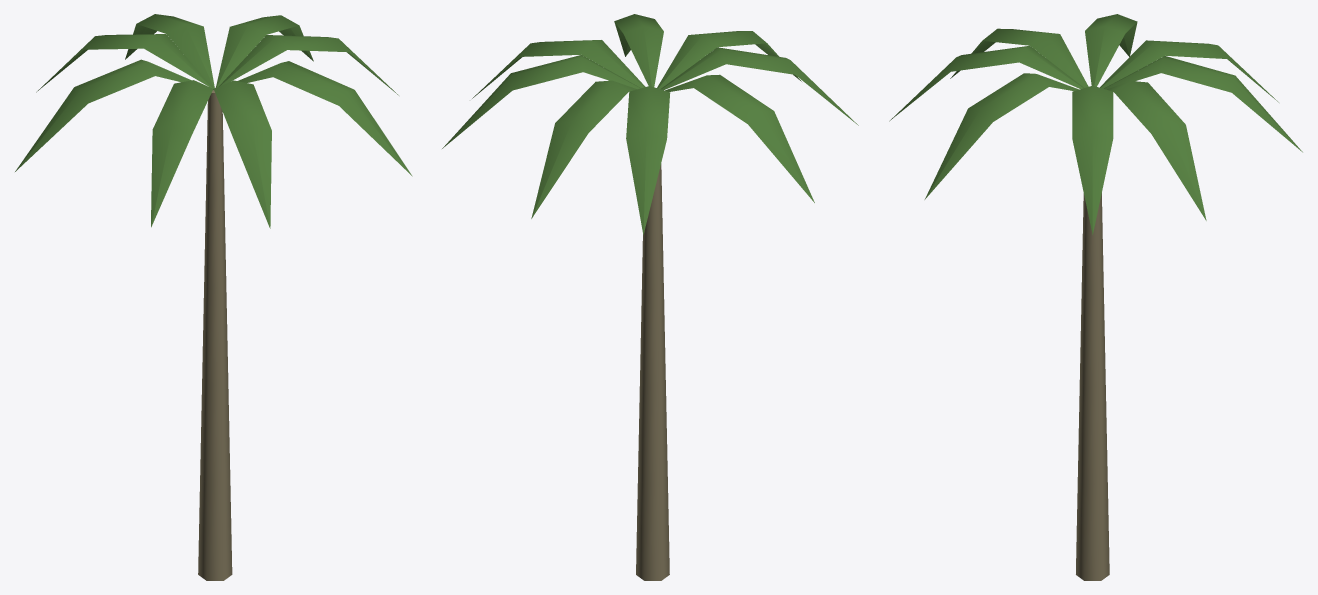
The model's file is palm-silhouette.glb.
3 renders of one model, left to right at view 1: azimuth 30°, elevation 25°; view 2: azimuth 150°, elevation 25°; view 3: azimuth 270°, elevation 25°, orthographic.
Visible parts, largest first — view 1: ForestCrown, ForestTrunk; view 2: ForestCrown, ForestTrunk; view 3: ForestCrown, ForestTrunk.
Part boxes in pixels (left/top/right/bottom): ForestCrown: left=15, top=14, right=412, bottom=228; ForestTrunk: left=198, top=87, right=232, bottom=580; ForestCrown: left=442, top=14, right=858, bottom=234; ForestTrunk: left=636, top=163, right=669, bottom=580; ForestCrown: left=889, top=14, right=1302, bottom=234; ForestTrunk: left=1076, top=193, right=1109, bottom=580.
Bounding box in the file's own units: 5.95 × 8.1 × 5.89.
